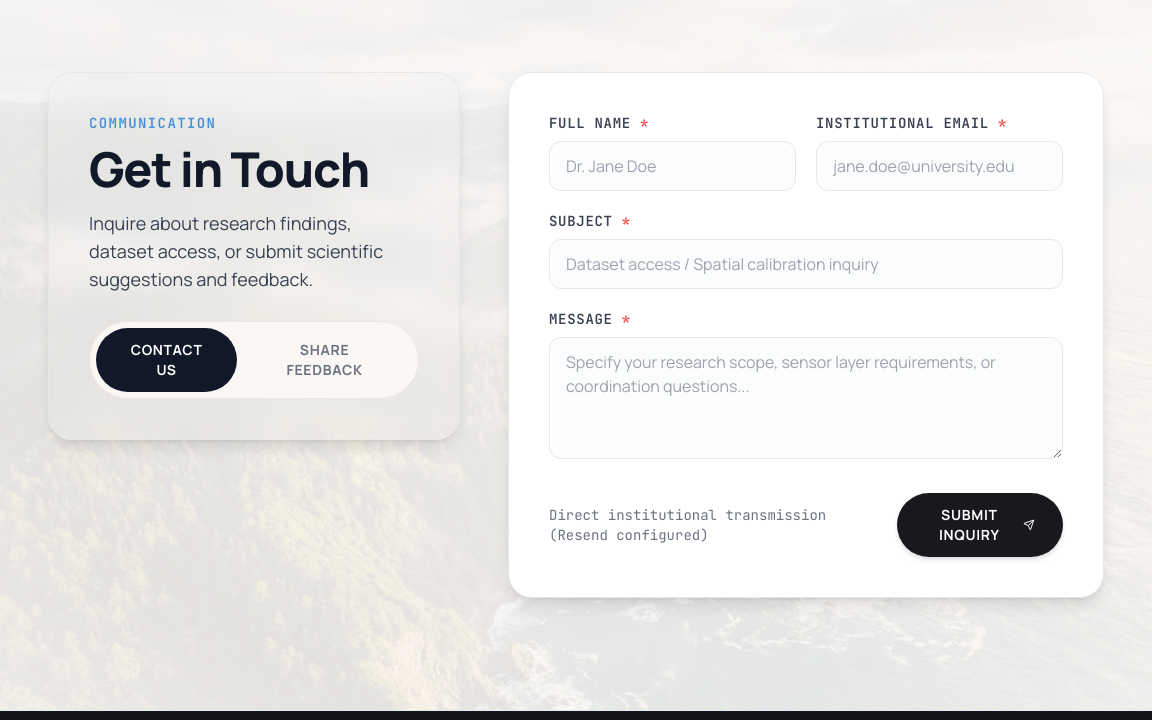
Test: AFTER THE FIRE — Public & Research Dashboard Pages › Public-Facing Website (/) › supports tab switching between Contact Us and Share Feedback
(page scrolled)
Click the button "Share Feedback" at (325, 360), box [237,328,412,392]
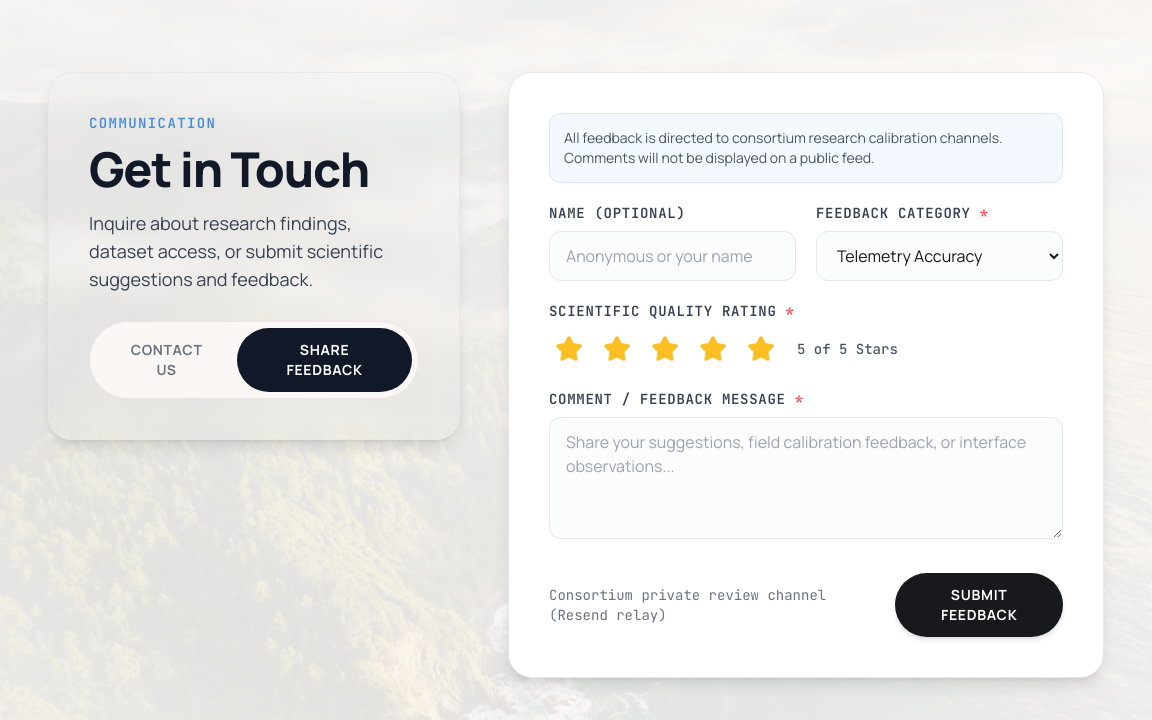
Expected: the text "Scientific Quality Rating *" is shown, [549,302,795,320]
Click the button "Contact Us" at (167, 360), box [96,328,237,392]
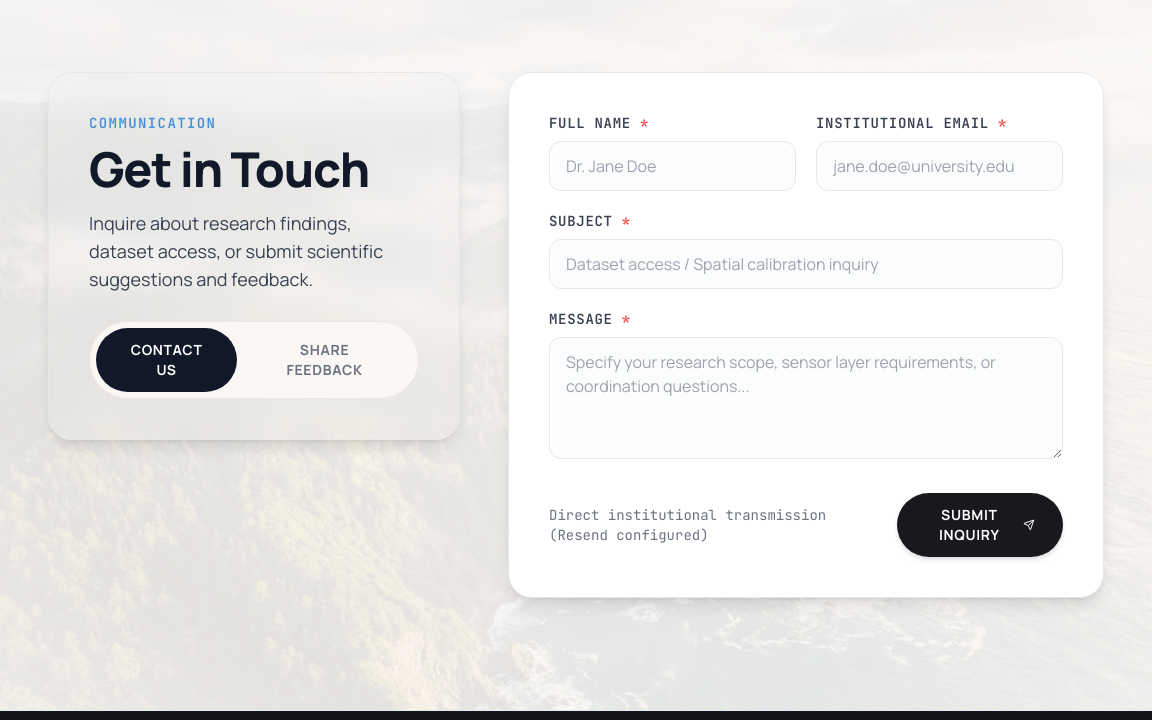
Expected: the text "Institutional Email *" is shown, [816,114,1007,132]
